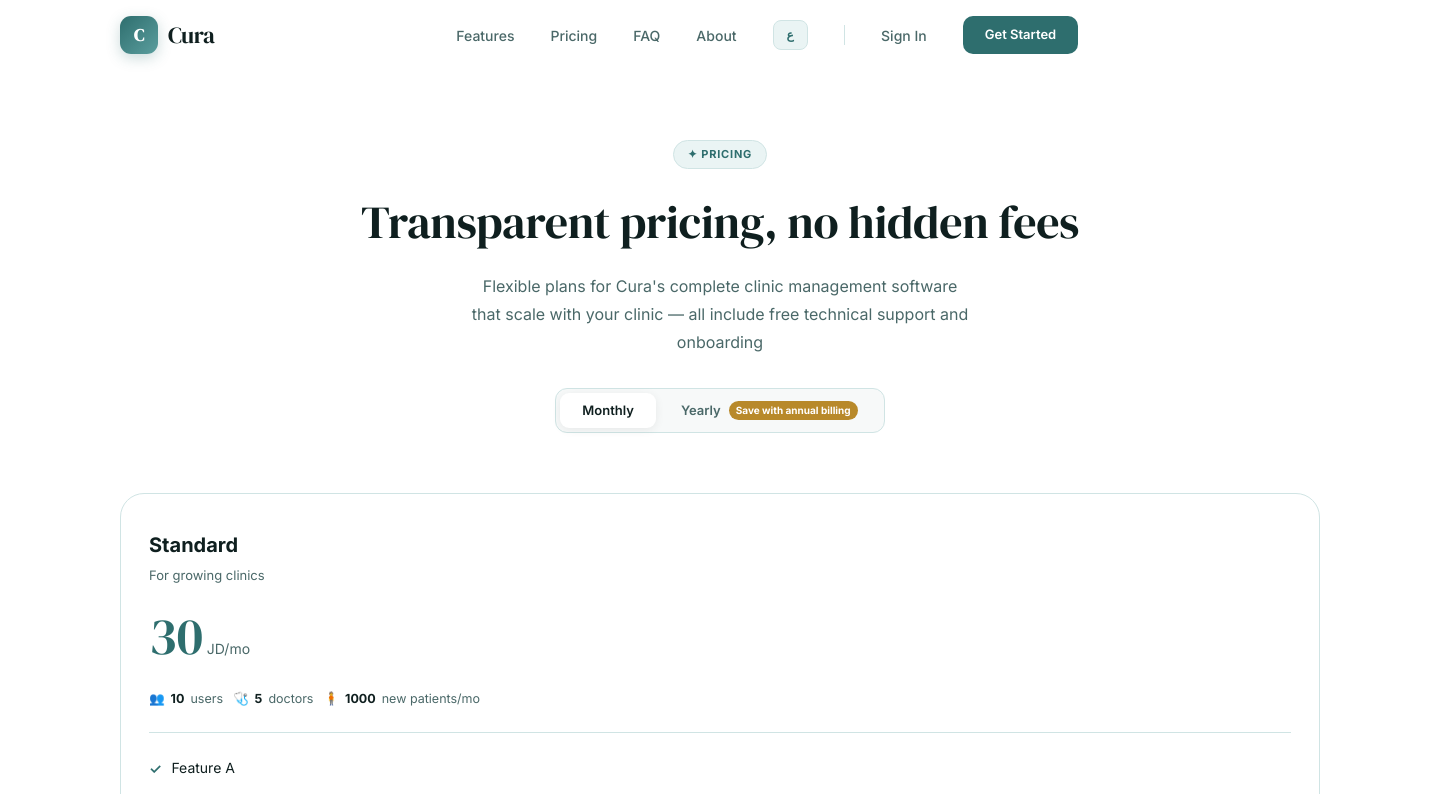
Test case: PricingPage › switches the displayed price when Yearly billing is selected
The width and height of the screenshot is (1440, 794).
Expected: the heading "Standard" is shown, x1=149 y1=533 x2=238 y2=557
Expected: the text "30" is shown, x1=149 y1=610 x2=203 y2=662
Click the button "Yearly Save with annual billing": (769, 410) x1=659 y1=392 x2=880 y2=428
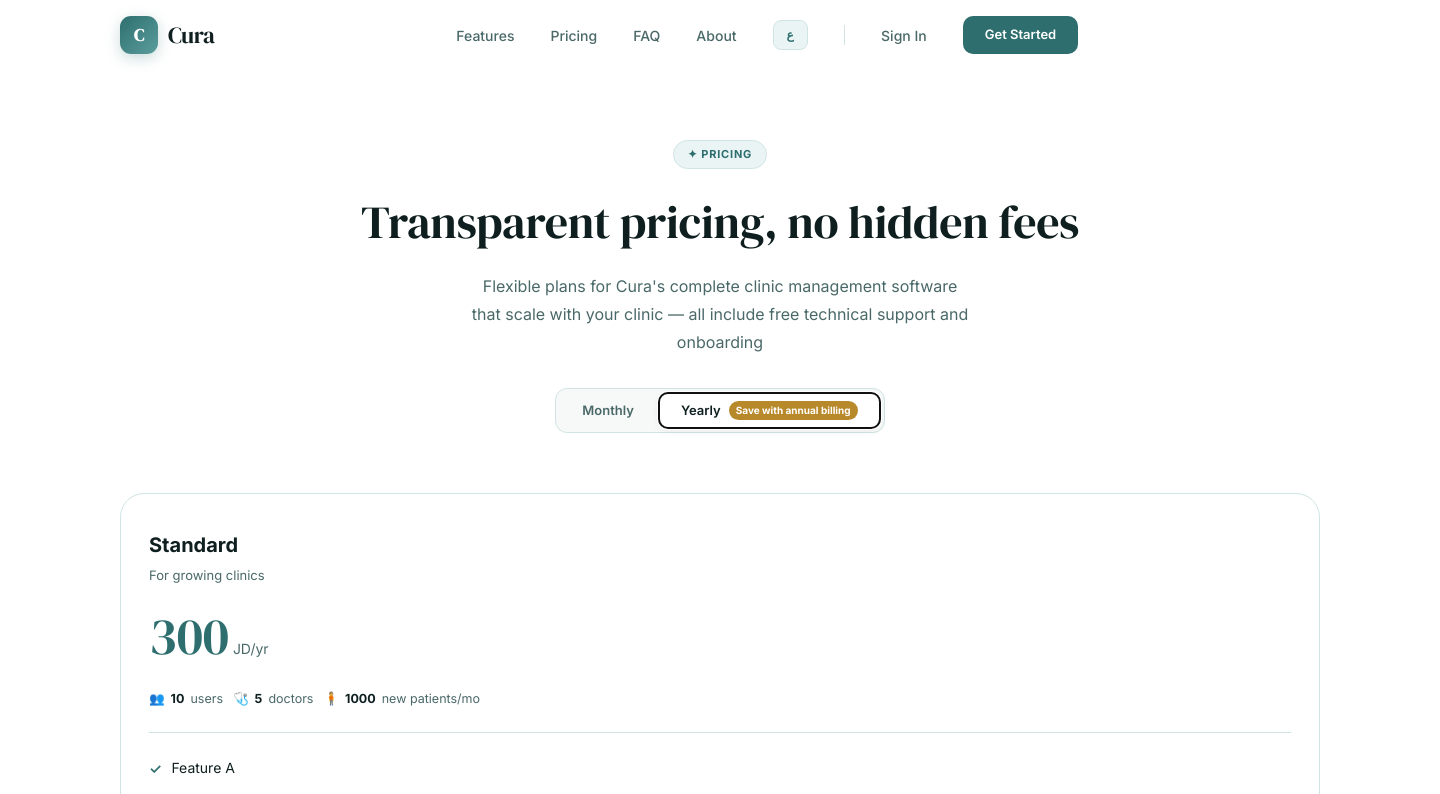
Expected: the text "300" is shown, x1=149 y1=610 x2=229 y2=662
